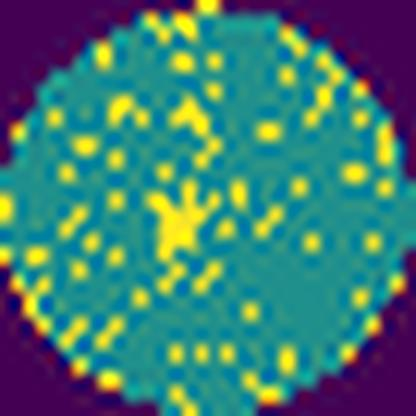Center: (136, 168, 223, 265)
